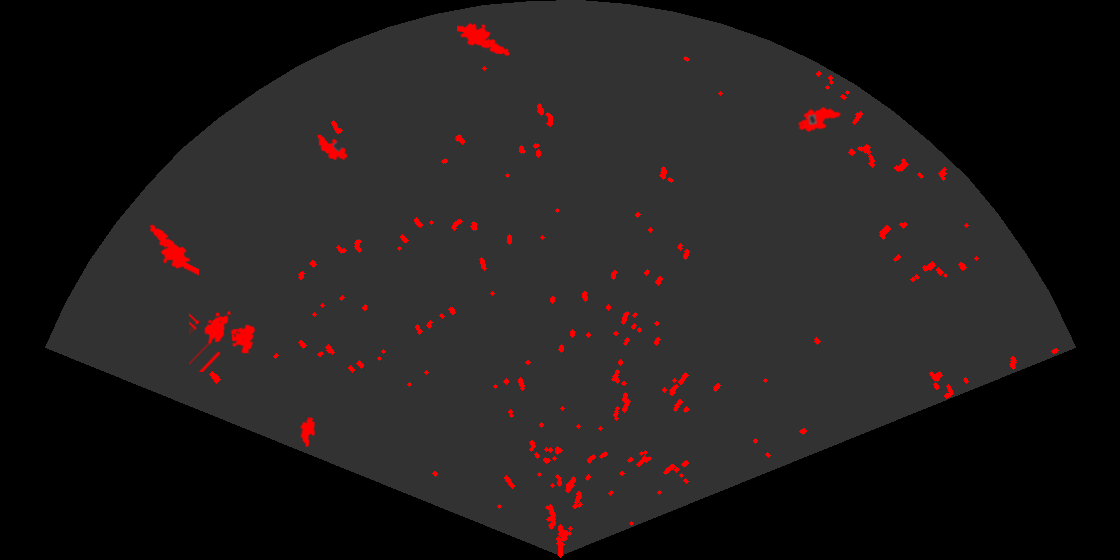AUV: (796, 105, 843, 134), (316, 133, 349, 162), (299, 416, 317, 448)
cage: (189, 309, 257, 372)
frogman: (148, 223, 199, 277), (457, 21, 512, 57)
